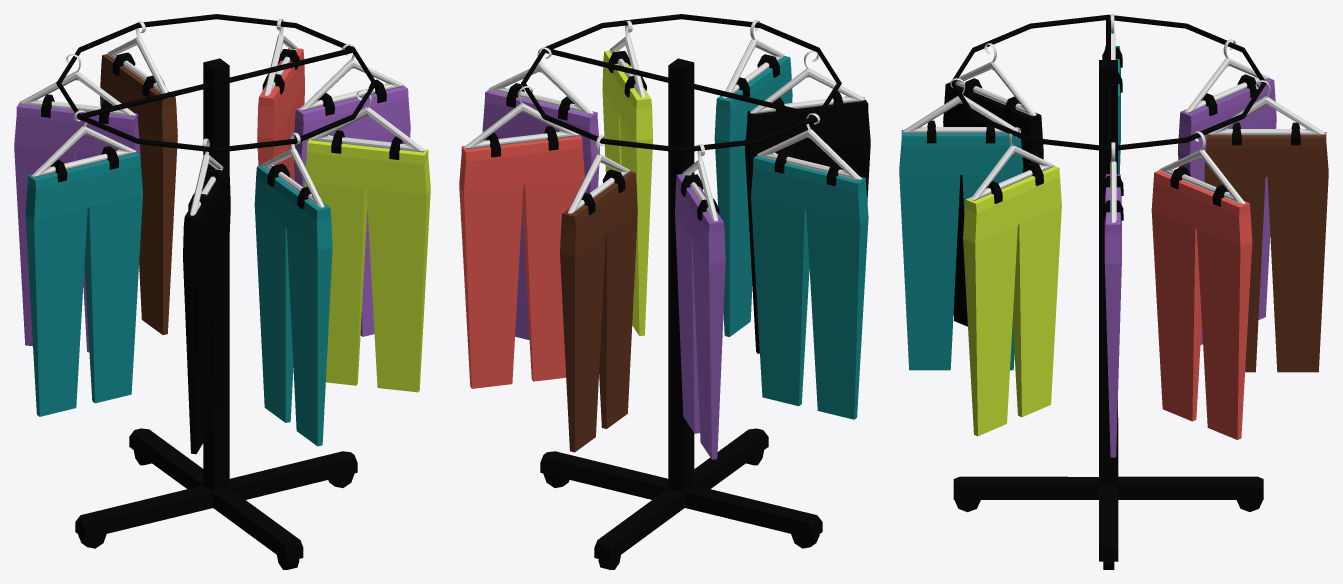
Rendered from rotating_rack.fbx.
3 renders of one model, left to right at view 1: azimuth 30°, elevation 25°; view 2: azimuth 150°, elevation 25°; view 3: azimuth 270°, elevation 25°, orthographic.
Parts seen in each view (by area): view 1: Torus.003, Cylinder.008; view 2: Torus.003, Cylinder.008; view 3: Torus.003, Cylinder.008.
Part boxes in pixels (x1,y1,x2,y2): Torus.003: (14, 14, 430, 454); Cylinder.008: (75, 58, 357, 569); Torus.003: (459, 14, 870, 459); Cylinder.008: (540, 58, 822, 569); Torus.003: (899, 14, 1328, 457); Cylinder.008: (953, 59, 1263, 569).
Size of the model in its own units: 410 by 470 by 410.
